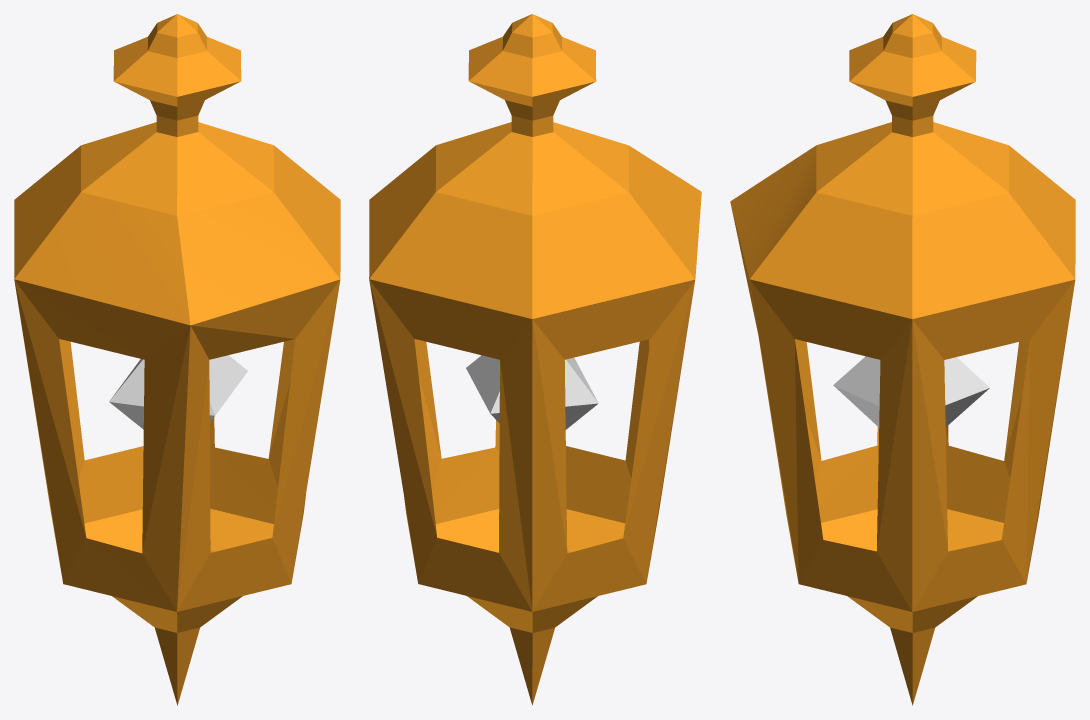
The model's file is 1stPass_SmallLantern.FBX.
3 renders of one model, left to right at view 1: azimuth 30°, elevation 25°; view 2: azimuth 150°, elevation 25°; view 3: azimuth 270°, elevation 25°, orthographic.
Parts seen in each view (by area): view 1: 1stPass_Small_Lantern, LightBulb_Small; view 2: 1stPass_Small_Lantern, LightBulb_Small; view 3: 1stPass_Small_Lantern, LightBulb_Small.
Boxes of the visible parts, bbox=[...] form: 1stPass_Small_Lantern: bbox=[14, 14, 340, 705]; LightBulb_Small: bbox=[109, 355, 247, 429]; 1stPass_Small_Lantern: bbox=[369, 14, 701, 705]; LightBulb_Small: bbox=[466, 355, 598, 429]; 1stPass_Small_Lantern: bbox=[730, 14, 1075, 705]; LightBulb_Small: bbox=[833, 356, 989, 427].
Bounding box in the file's own units: 2.64 × 5.35 × 2.42.
